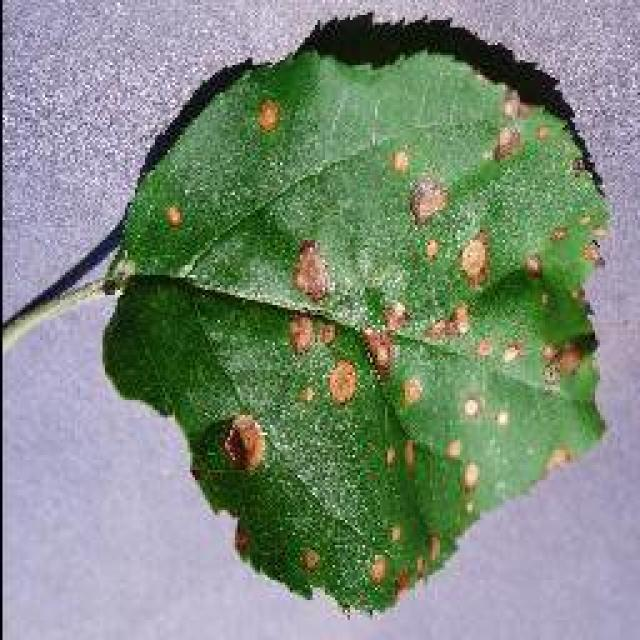Black_rot: (98, 10, 612, 618)
